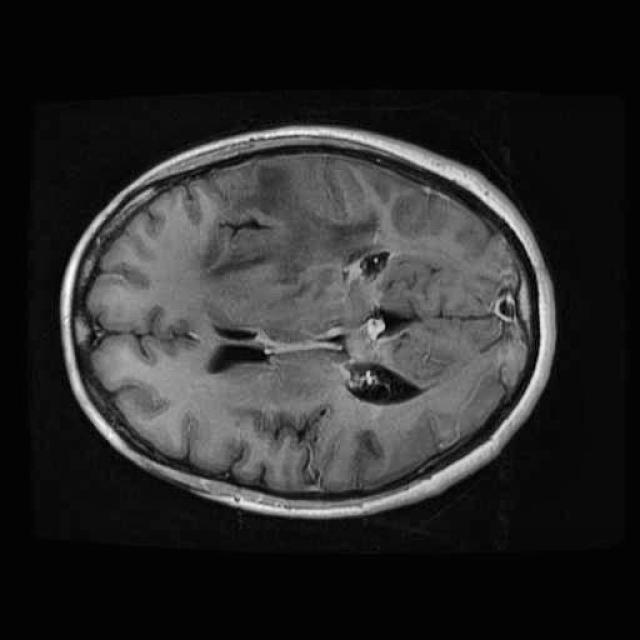Tumor: (190, 155, 391, 310)
